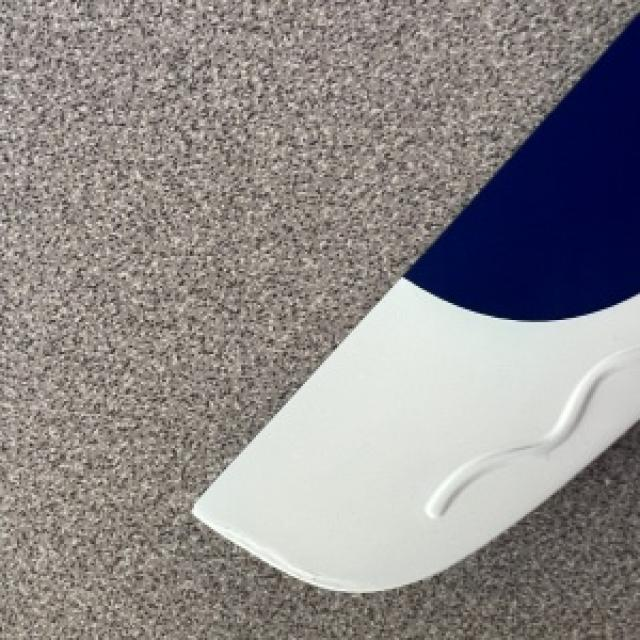healthy: (192, 13, 638, 589)
